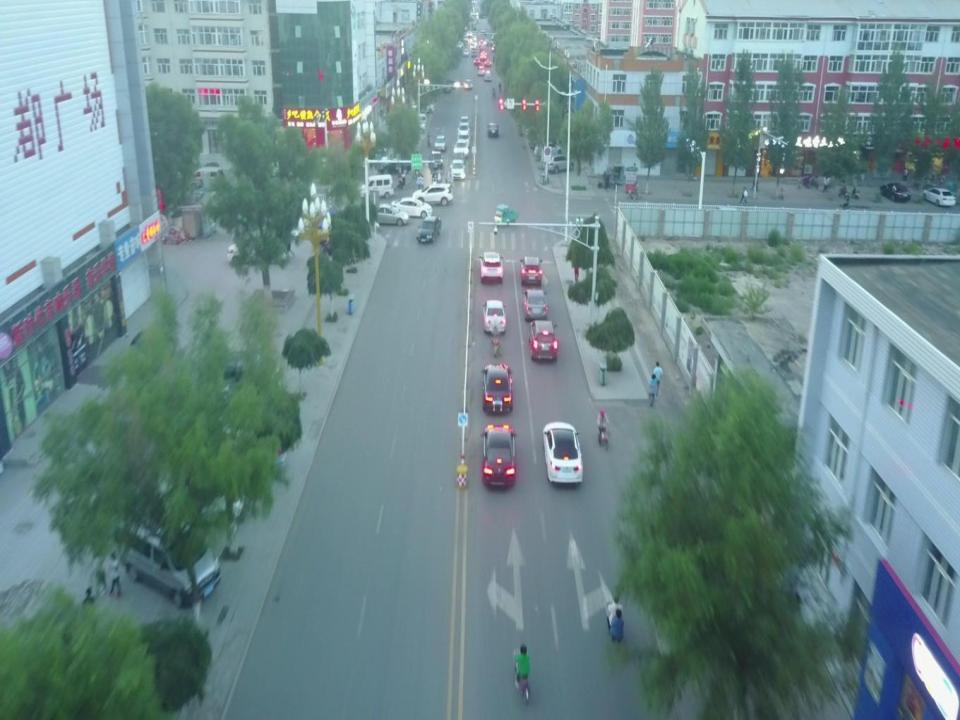car: (145, 457, 245, 520), (184, 406, 287, 467), (116, 326, 174, 412), (178, 346, 277, 382), (543, 420, 582, 483), (225, 230, 290, 266), (482, 426, 516, 488), (480, 361, 511, 415), (528, 318, 558, 362), (477, 250, 506, 286), (415, 214, 444, 250), (410, 182, 453, 206), (367, 203, 409, 227), (522, 287, 548, 320), (390, 197, 432, 217), (482, 298, 506, 332), (519, 255, 545, 285), (881, 182, 911, 202), (922, 188, 956, 205), (546, 154, 574, 174), (534, 141, 561, 156), (525, 124, 553, 138), (406, 101, 436, 112), (451, 160, 465, 180), (451, 152, 465, 172), (454, 138, 468, 158), (429, 150, 442, 168), (457, 121, 469, 140), (486, 121, 499, 138), (457, 130, 469, 147), (458, 115, 470, 132), (444, 77, 460, 89), (434, 134, 446, 148), (802, 173, 811, 189), (810, 172, 818, 188), (852, 185, 861, 197), (840, 185, 848, 198), (464, 78, 472, 89), (442, 82, 450, 92), (780, 184, 784, 200)
van: (108, 514, 220, 609), (185, 168, 226, 191), (358, 173, 393, 199)
